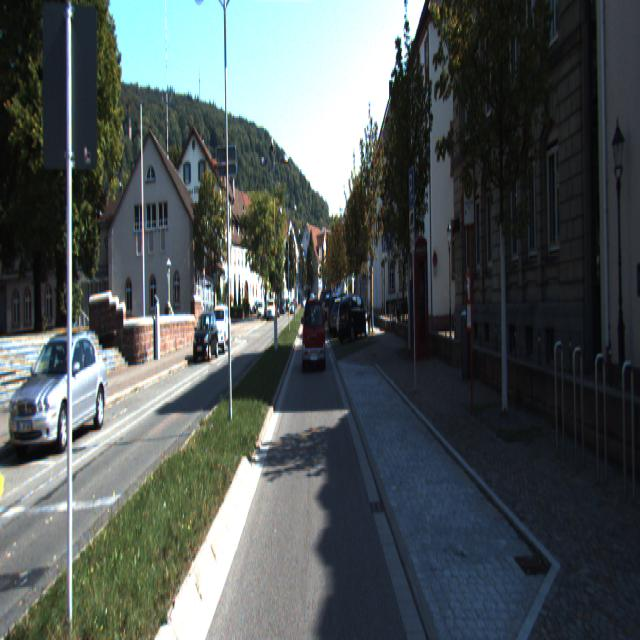Car: (8, 331, 109, 452), (303, 299, 326, 373), (337, 294, 371, 343), (192, 313, 220, 363), (330, 296, 362, 335), (208, 306, 232, 354)
